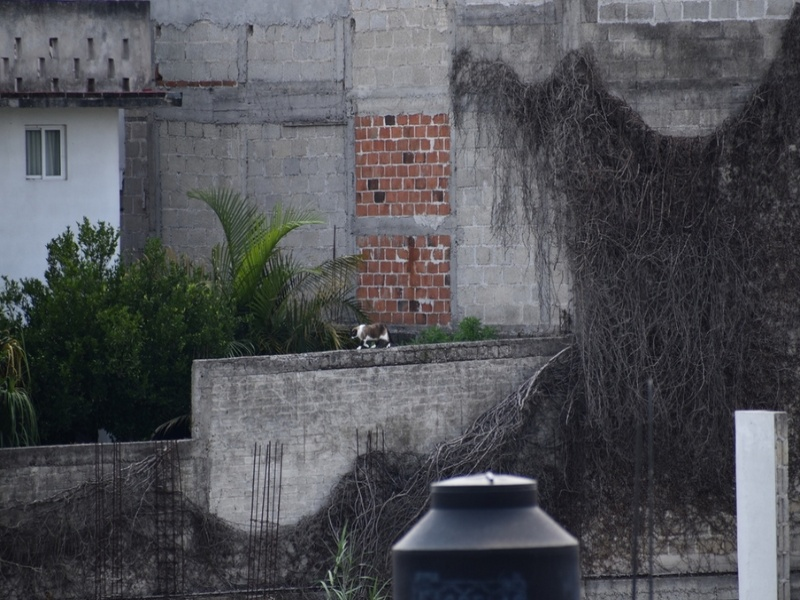cat: (347, 322, 393, 349)
